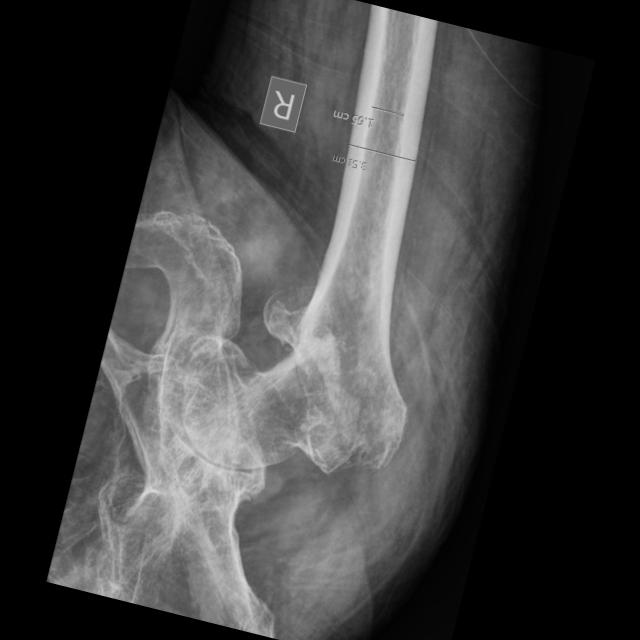right-intertrochanteric: (179, 296, 379, 473), (273, 219, 406, 467)
